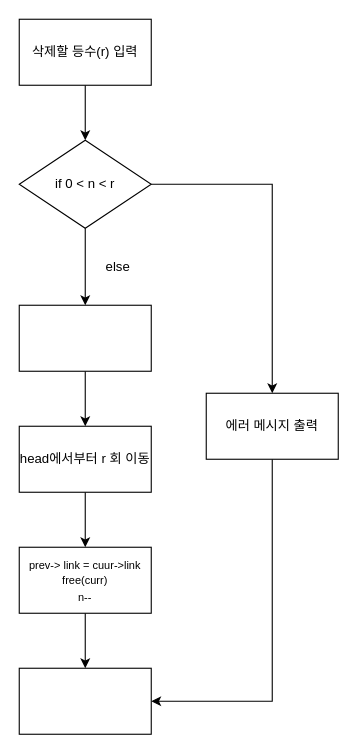
This 358x754 diagram has some shape labels left out. Each missing label, with the box of its shape:
node* curr node* prev 선언: (18, 304, 151, 371)
종료: (18, 667, 151, 734)
